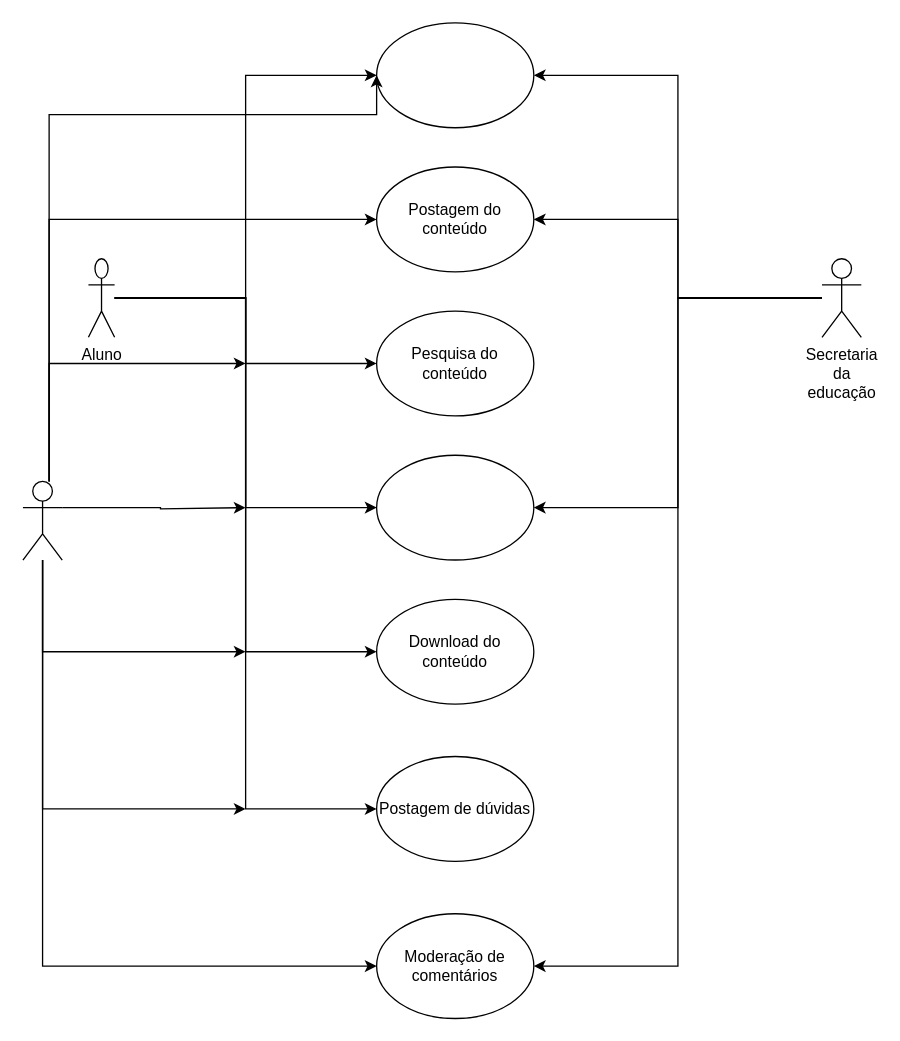
Image size: 900x1041. Some labels were removed from this diagram. Each missing label, with the centre of its shape:
"Acesso à plataforma" belongs at [454,75].
"Profº" belongs at [42,520].
"Visualização do conteúdo" belongs at [454,507].
